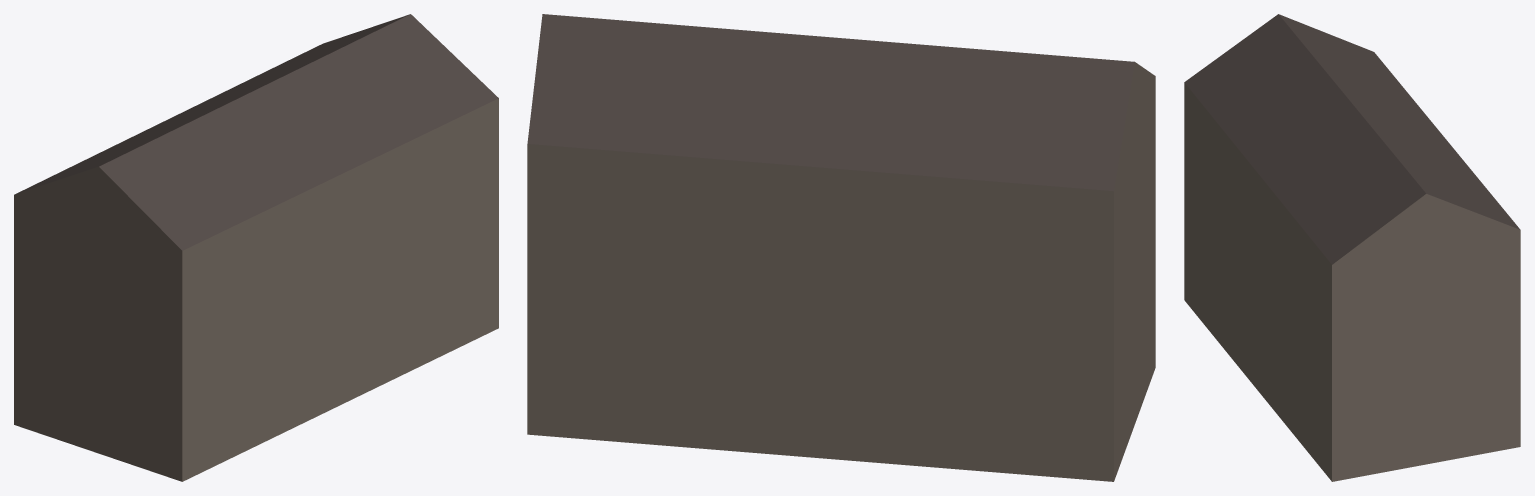
3 views of the same model, side by side, from view 1: azimuth 30°, elevation 25°; view 2: azimuth 150°, elevation 25°; view 3: azimuth 270°, elevation 25° (orthographic). The views are drawn at different scales.
Parts seen in each view (by area): view 1: HP-w1198893552; view 2: HP-w1198893552; view 3: HP-w1198893552.
Boxes of the visible parts, bbox=[...] form: HP-w1198893552: bbox=[14, 14, 498, 481]; HP-w1198893552: bbox=[527, 14, 1155, 481]; HP-w1198893552: bbox=[1184, 14, 1520, 481].
Bounding box in the file's own units: 12.63 × 7.48 × 8.43.
